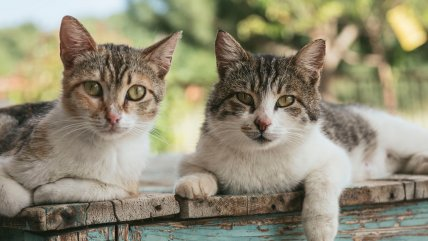cat: (170, 47, 423, 208), (9, 30, 198, 208)
